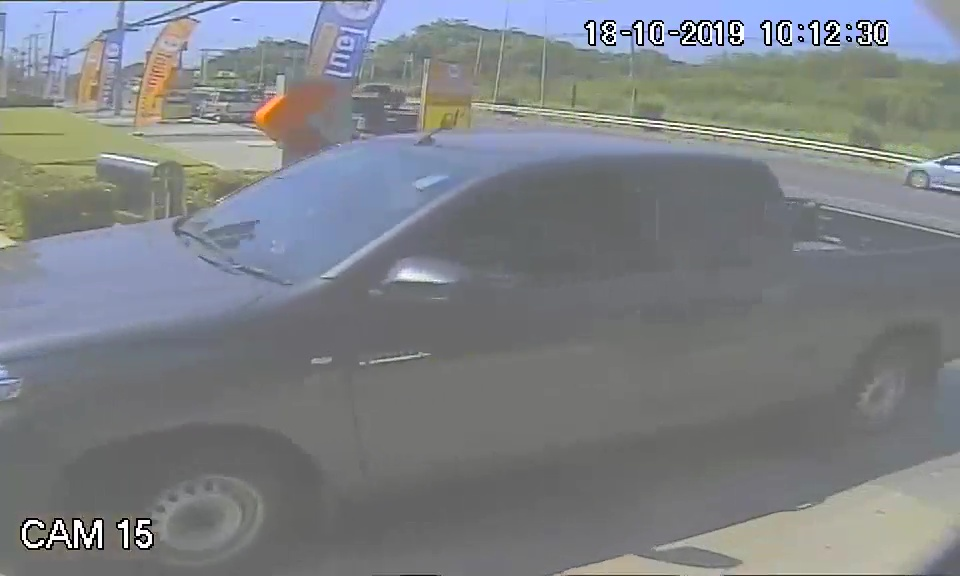pickup: (1, 126, 960, 507)
